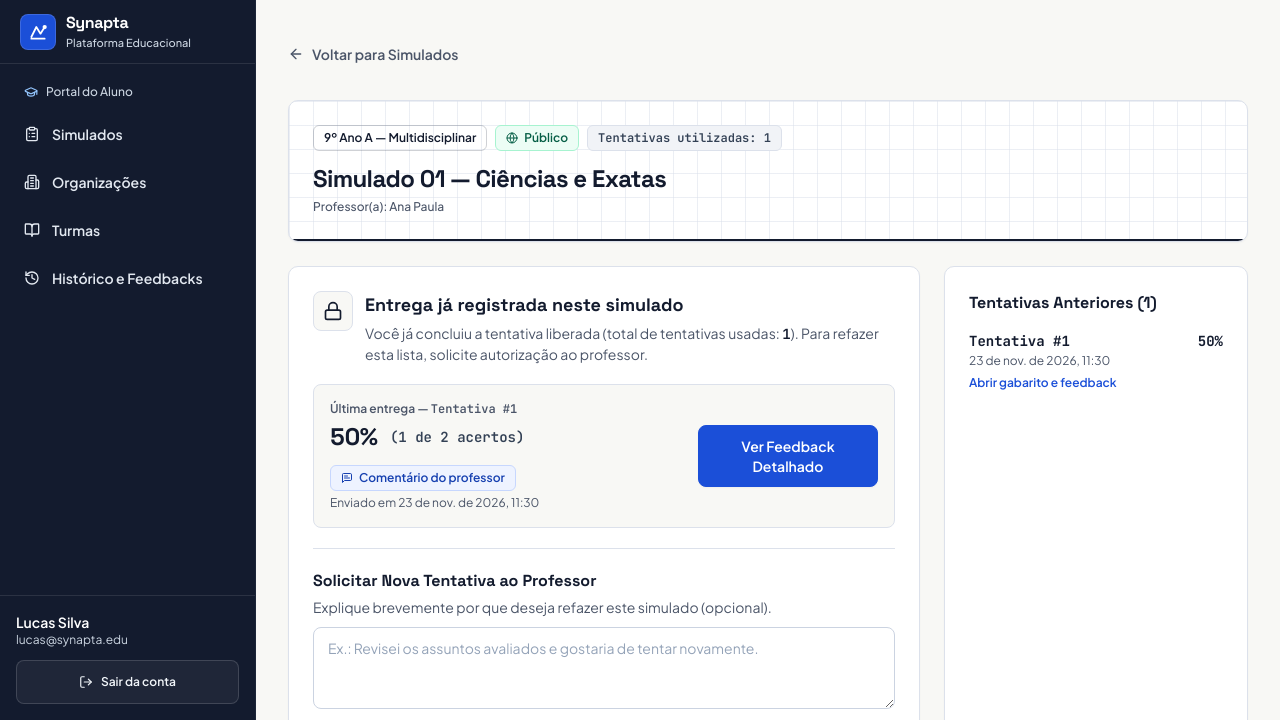
Test case: StudentQuizFeedback › permite solicitar nova tentativa ao professor quando can_attempt é false
Type "Revisei o conteúdo" into the text box with placeholder "Revise".
click(604, 668); type("Revisei o conteúdo")  # box [313, 627, 895, 709]
(page scrolled)
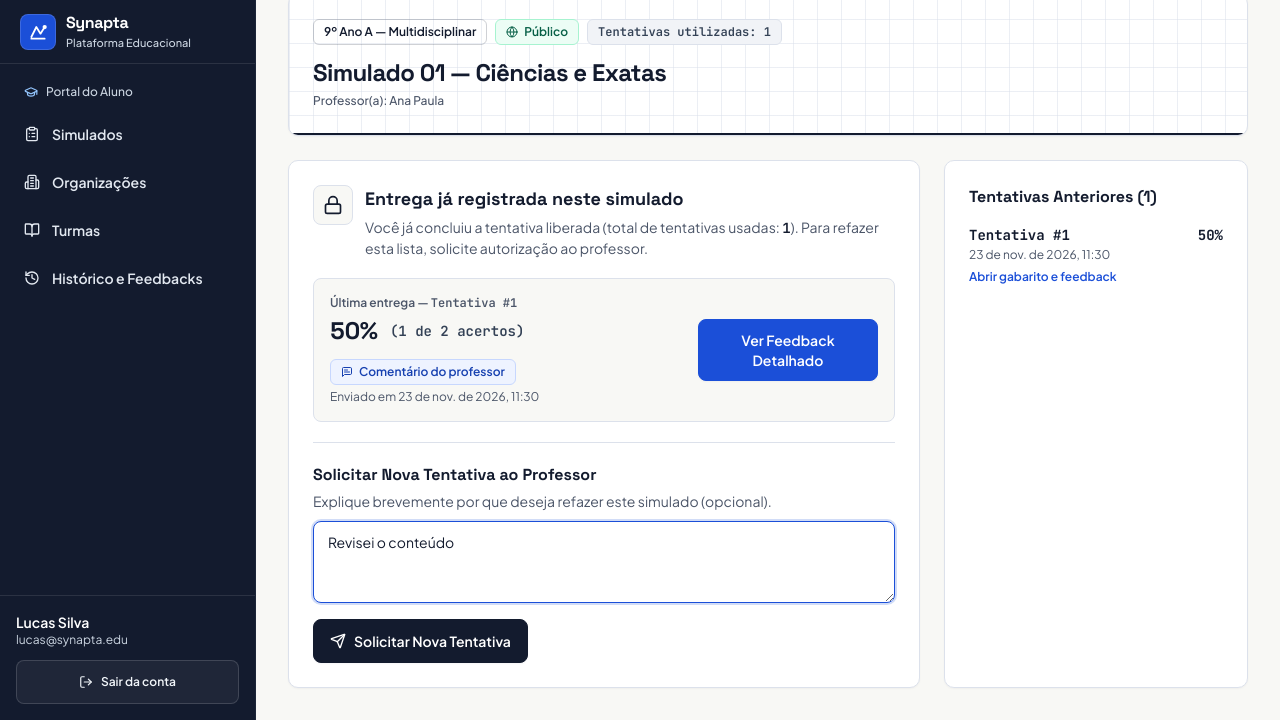
Click the button "Solicitar Nova Tentativa".
click(420, 641)  # box [313, 619, 528, 663]
(page scrolled)
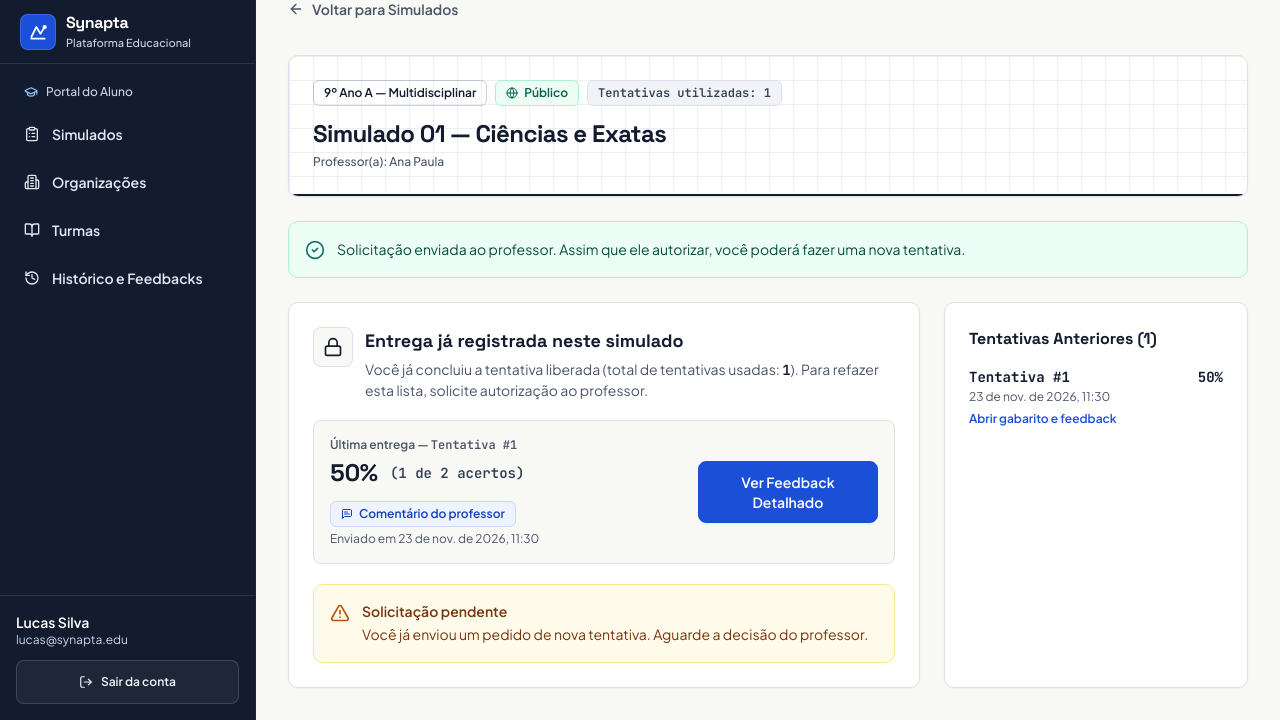
Now the text "Solicitação pendente" is shown, box [362, 602, 507, 620]
